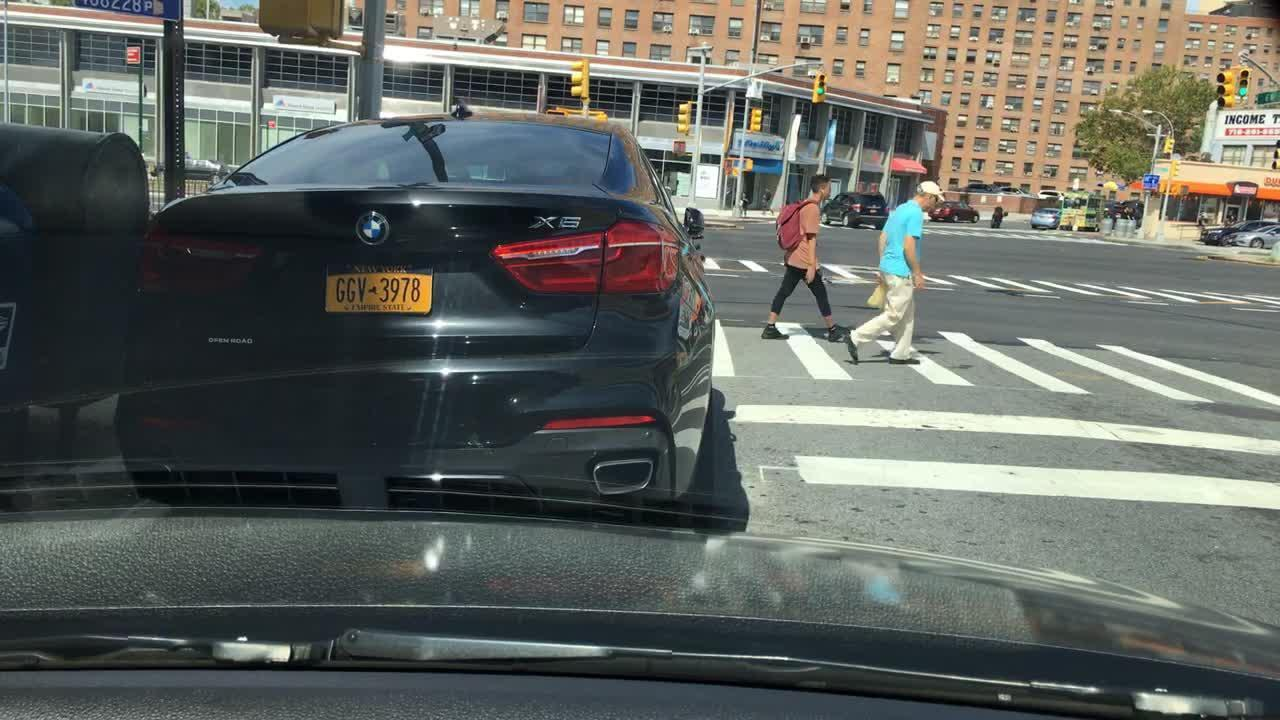bmw: (341, 211, 406, 258)
